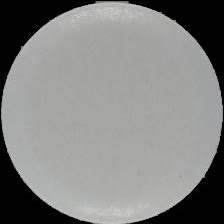68788-9270: (0, 0, 224, 224)
